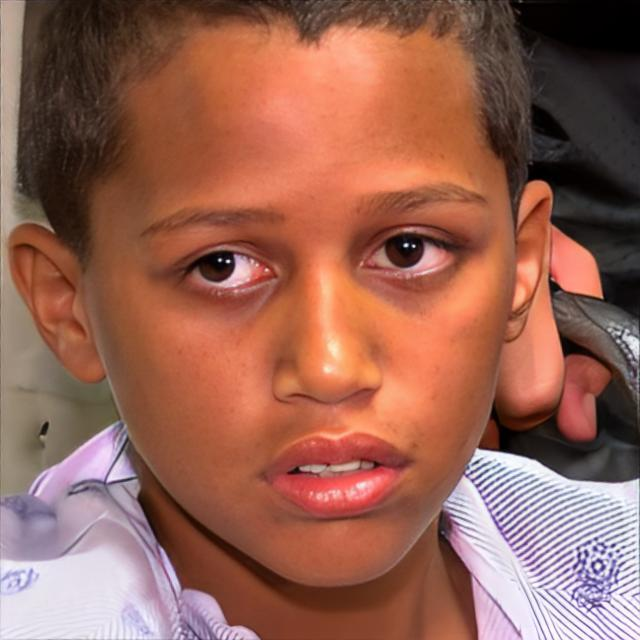sad: (108, 34, 508, 588)
